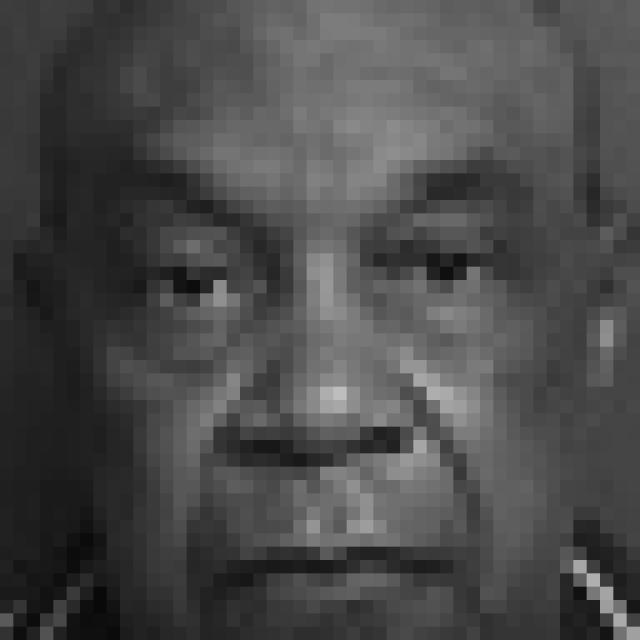neutral: (118, 166, 539, 640)
